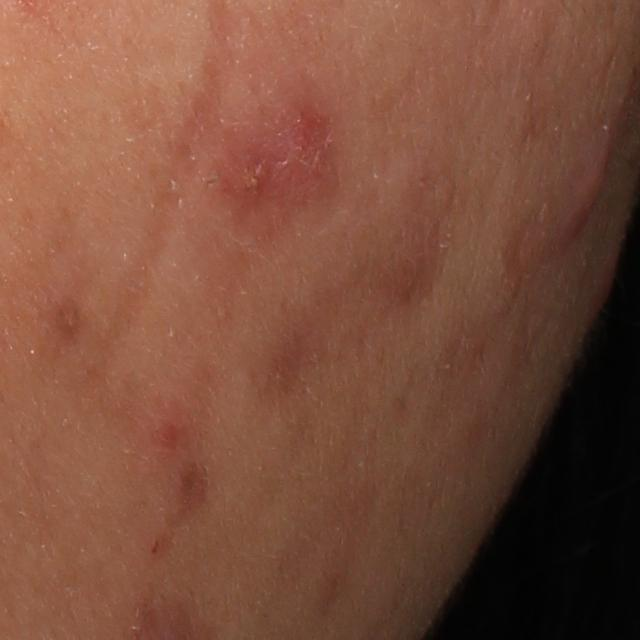papule: (557, 146, 616, 257)
